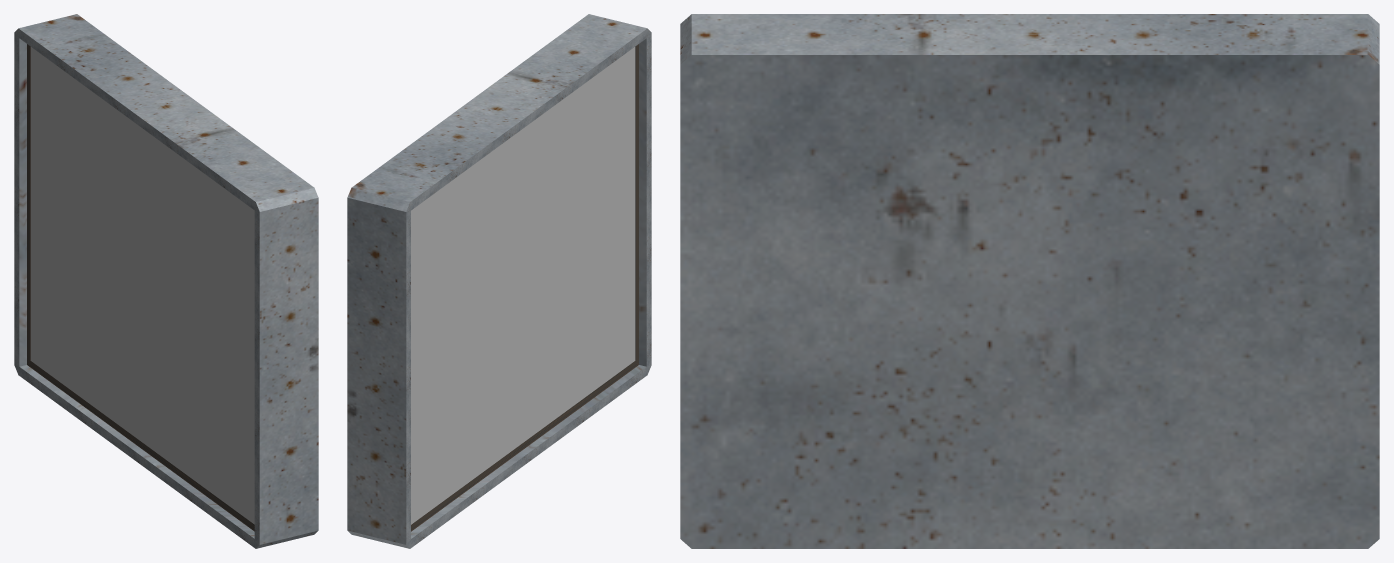
File: Ob_WallScreenArrows_RC.fbx
3 renders of one model, left to right at view 1: azimuth 30°, elevation 25°; view 2: azimuth 150°, elevation 25°; view 3: azimuth 270°, elevation 25°, orthographic. The views are drawn at different scales.
Visible parts, largest first — view 1: Ob_WallScreenArrows_RC; view 2: Ob_WallScreenArrows_RC; view 3: Ob_WallScreenArrows_RC.
Part boxes in pixels (x1=…): Ob_WallScreenArrows_RC: x1=14, y1=14, x2=318, y2=548; Ob_WallScreenArrows_RC: x1=347, y1=14, x2=651, y2=548; Ob_WallScreenArrows_RC: x1=680, y1=14, x2=1379, y2=548.
Size of the model in its own units: 36.23 by 204 by 262.
